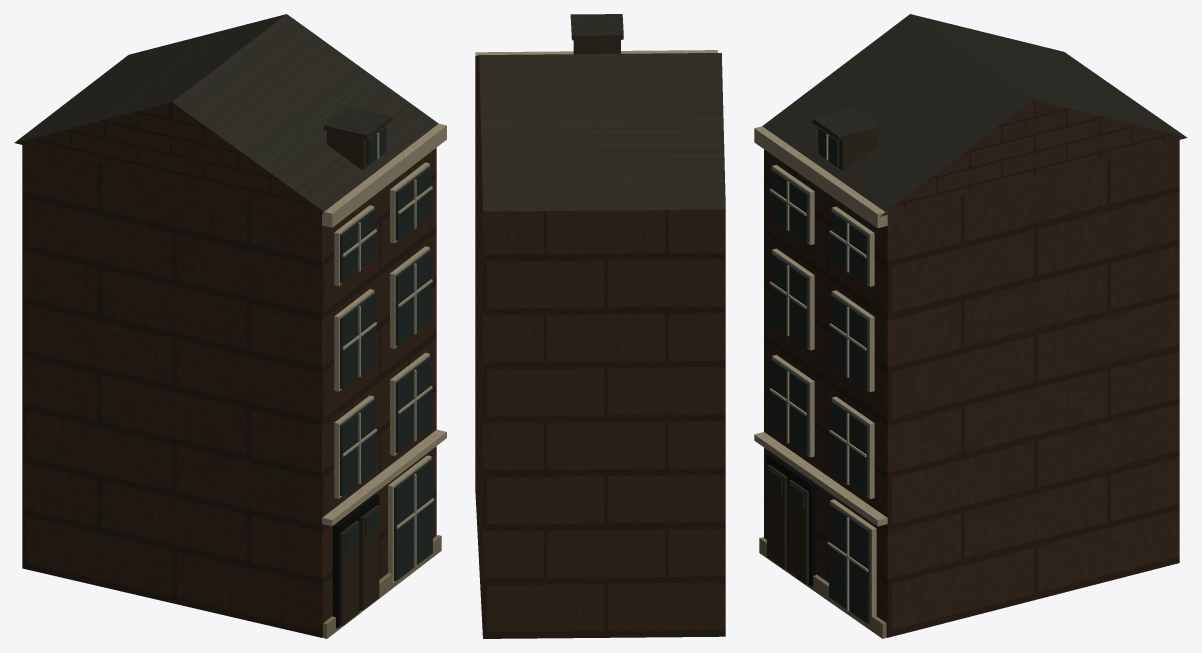
3 views of the same model, side by side, from view 1: azimuth 30°, elevation 25°; view 2: azimuth 150°, elevation 25°; view 3: azimuth 270°, elevation 25° (orthographic).
Visible parts, largest first — view 1: haringvliet89-0, haringvliet89-1, haringvliet89-3, haringvliet89-2, haringvliet89-5, haringvliet89-4, haringvliet89-6; view 2: haringvliet89-0, haringvliet89-1, haringvliet89-2, haringvliet89-5; view 3: haringvliet89-0, haringvliet89-1, haringvliet89-3, haringvliet89-2, haringvliet89-5, haringvliet89-4, haringvliet89-6.
Boxes of the visible parts, bbox=[...] form: haringvliet89-0: bbox=[15, 102, 436, 637]; haringvliet89-1: bbox=[14, 14, 438, 211]; haringvliet89-3: bbox=[340, 126, 432, 581]; haringvliet89-2: bbox=[322, 123, 446, 583]; haringvliet89-5: bbox=[327, 130, 385, 625]; haringvliet89-4: bbox=[332, 494, 379, 628]; haringvliet89-6: bbox=[323, 535, 441, 638]; haringvliet89-0: bbox=[475, 55, 725, 638]; haringvliet89-1: bbox=[479, 14, 725, 211]; haringvliet89-2: bbox=[475, 50, 717, 55]; haringvliet89-5: bbox=[573, 40, 620, 54]; haringvliet89-0: bbox=[764, 100, 1187, 637]; haringvliet89-1: bbox=[762, 14, 1186, 211]; haringvliet89-3: bbox=[768, 128, 870, 624]; haringvliet89-2: bbox=[754, 126, 887, 616]; haringvliet89-5: bbox=[767, 127, 878, 584]; haringvliet89-4: bbox=[767, 453, 816, 586]; haringvliet89-6: bbox=[759, 537, 886, 638].
Size of the model in its own units: 10.32 by 14.55 by 11.42.
7 materials, 7 textured.
